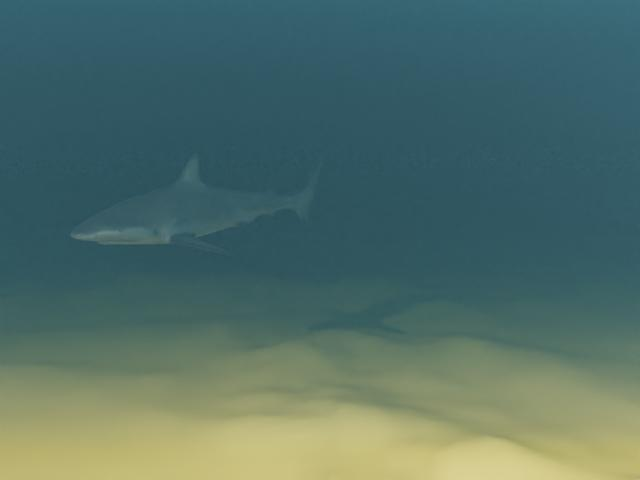Carribean Shark.001: (70, 151, 325, 255)
